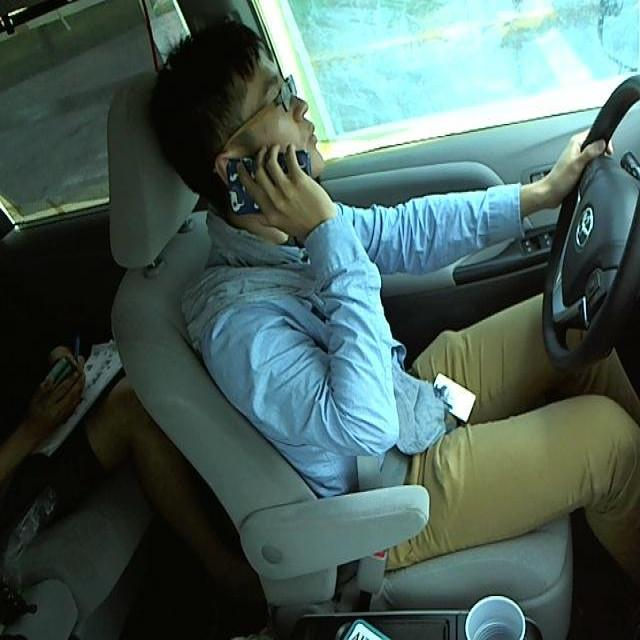using_phone: (120, 16, 382, 281)
